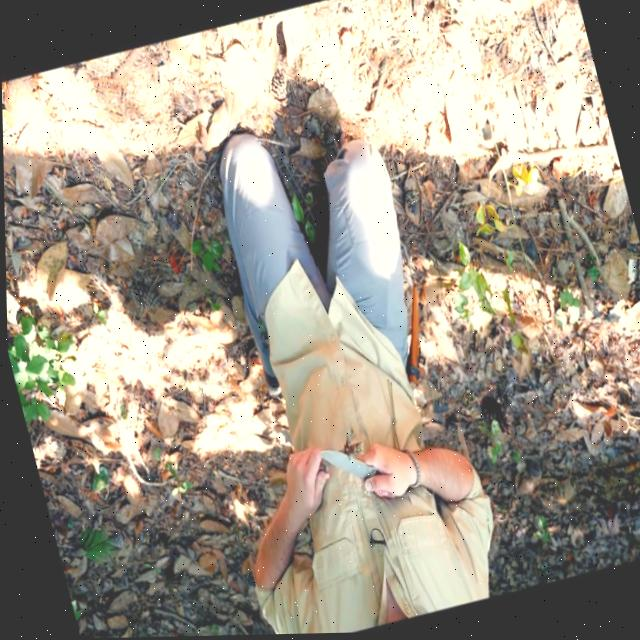knife: (314, 435, 381, 489)
